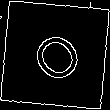O_SE: (22, 21, 88, 89)
